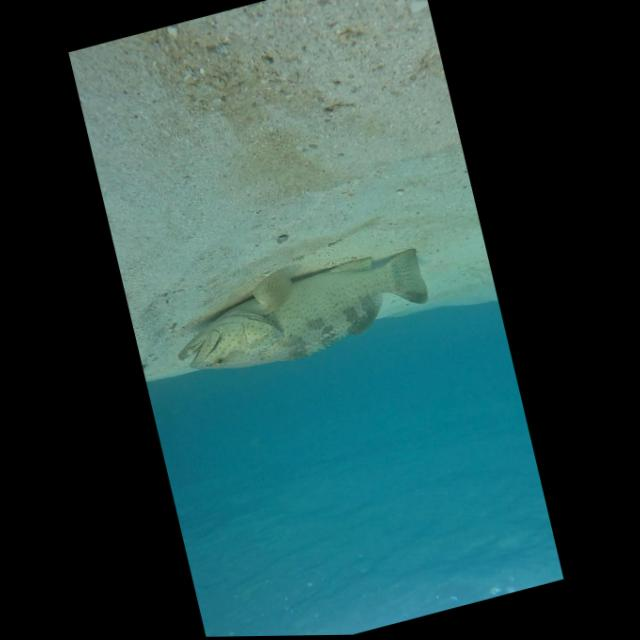Groupers: (160, 234, 443, 387)
